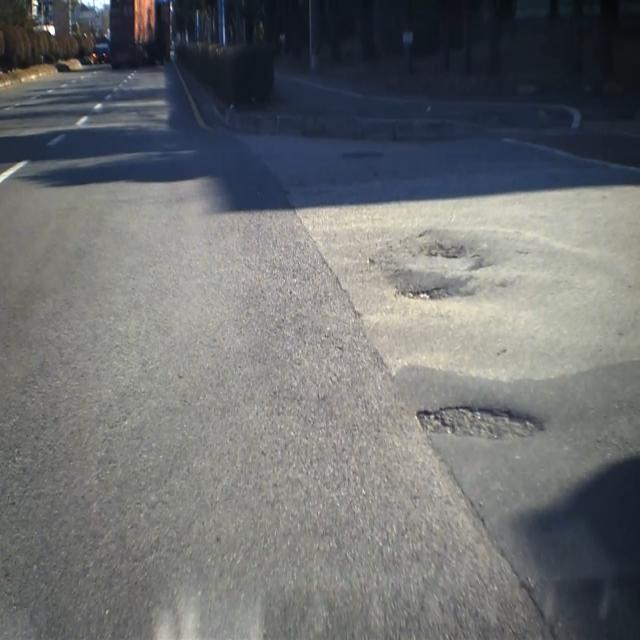Pothole: (378, 226, 500, 316)
